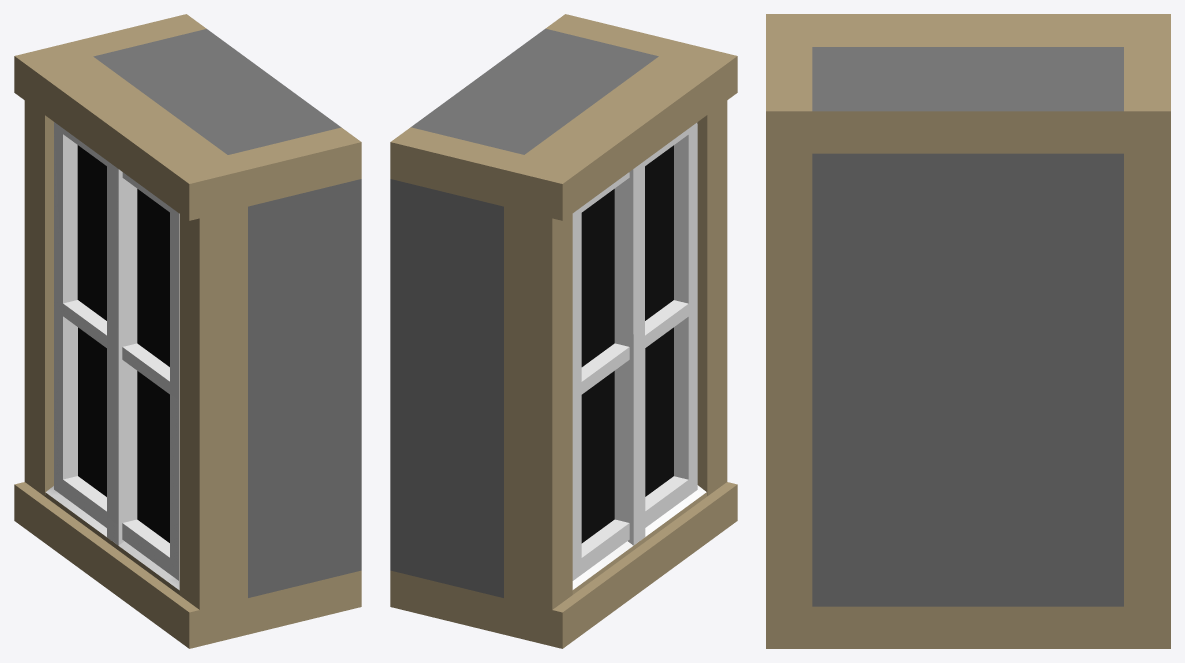
File: Window3.fbx
The picture shows the model from 3 angles, left to right: view 1: azimuth 30°, elevation 25°; view 2: azimuth 150°, elevation 25°; view 3: azimuth 270°, elevation 25°; orthographic projection. The views are drawn at different scales.
Visible parts, largest first — view 1: Window003; view 2: Window003; view 3: Window003.
Boxes of the visible parts, <box> form: Window003: <box>14,14,361,648</box>; Window003: <box>390,14,737,648</box>; Window003: <box>766,14,1170,648</box>.
Bounding box in the file's own units: 22.36 × 57.71 × 39.37.
